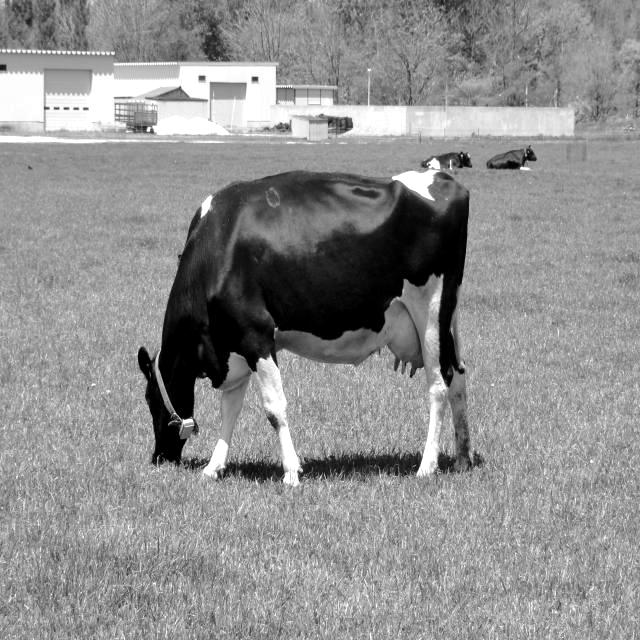COW: (138, 172, 472, 485)
